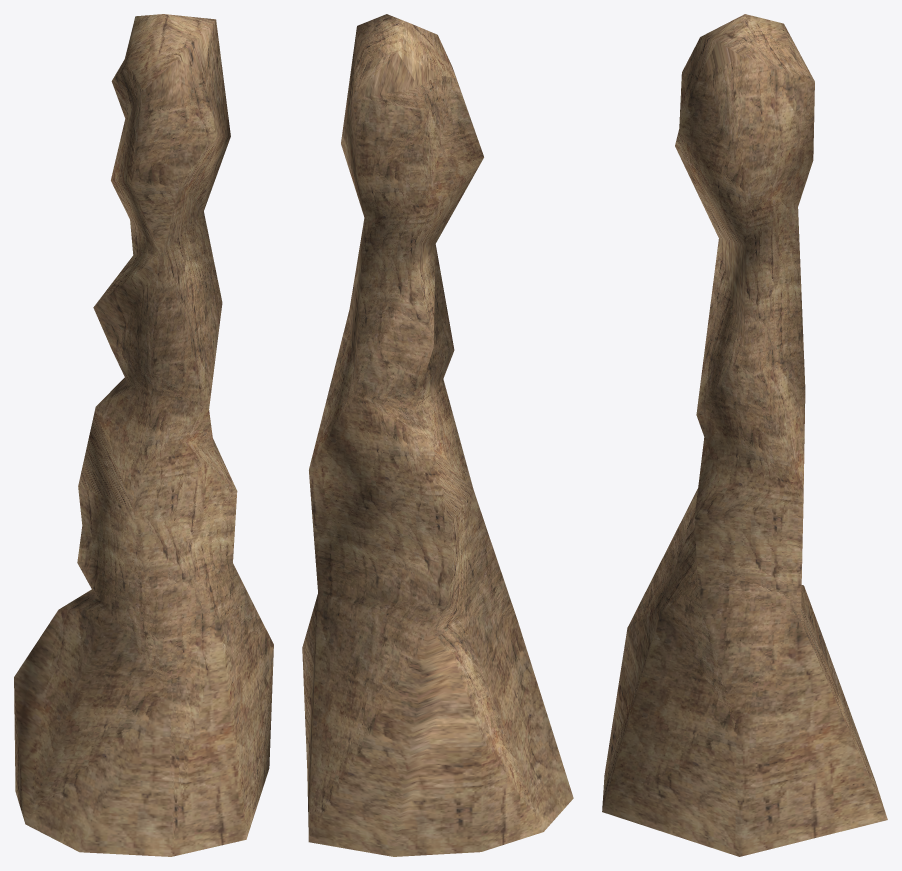
Rendered from rock_tatt_spire_lumpy_a1_l2.fbx.
3 views of the same model, side by side, from view 1: azimuth 30°, elevation 25°; view 2: azimuth 150°, elevation 25°; view 3: azimuth 270°, elevation 25° (orthographic). The views are drawn at different scales.
Parts seen in each view (by area): view 1: mesh_node; view 2: mesh_node; view 3: mesh_node.
Part boxes in pixels (x1,y1,x2,y2): mesh_node: (14,14,273,856); mesh_node: (302,14,573,856); mesh_node: (602,14,887,856).
Size of the model in its own units: 25.71 by 77.89 by 25.48.
Materials: 1 (1 with a texture image).
